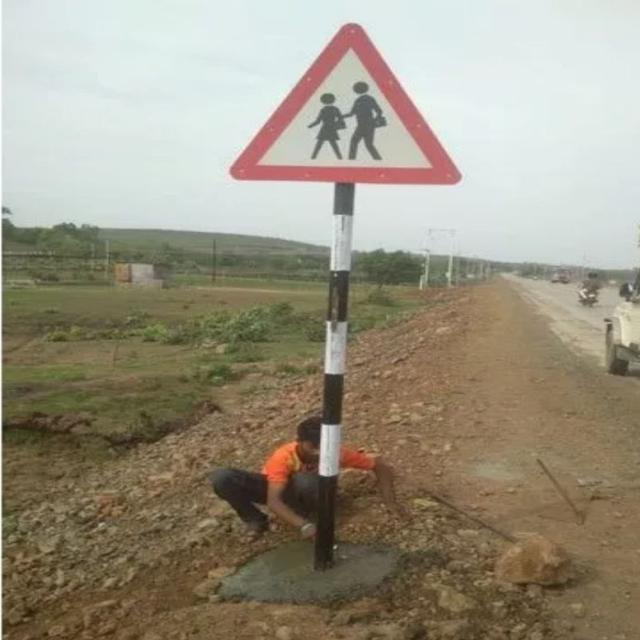school ahead: (228, 24, 460, 189)
